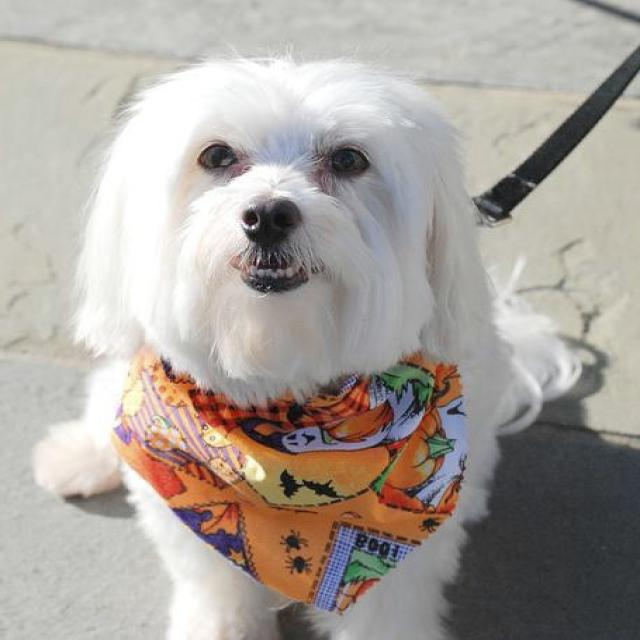maltese_dog: (27, 45, 590, 637)
